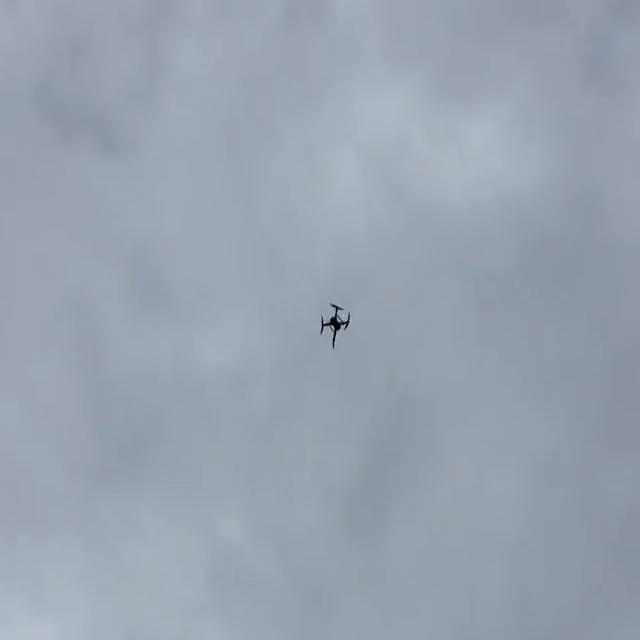drone: (314, 286, 359, 358)
